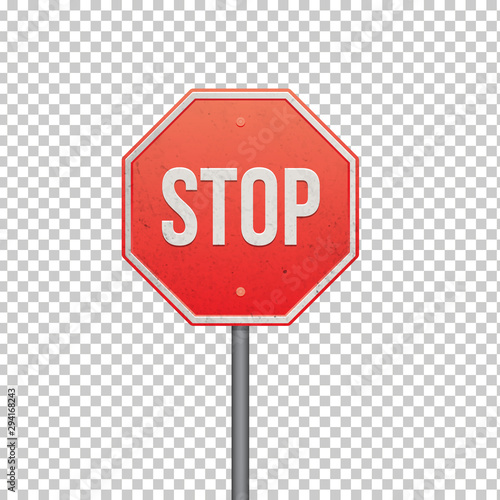StopSign: (121, 87, 358, 323)
